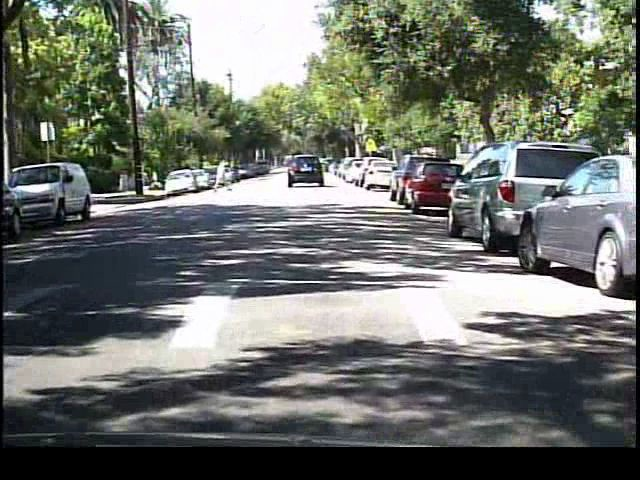person: (213, 154, 233, 195)
